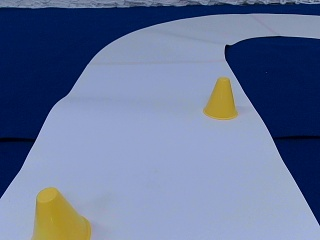cone: (30, 187, 91, 238), (204, 77, 238, 119)
